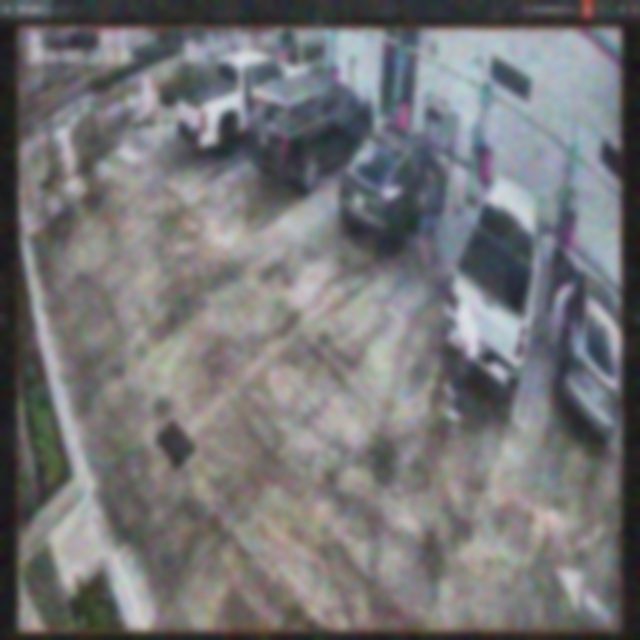Car: (440, 178, 545, 383), (250, 71, 375, 187), (340, 127, 449, 241), (179, 54, 304, 152)
